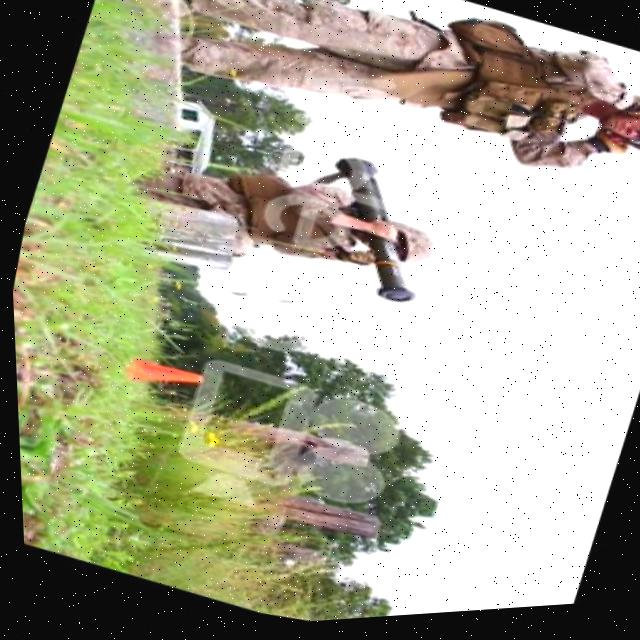rocket: (288, 145, 456, 323)
